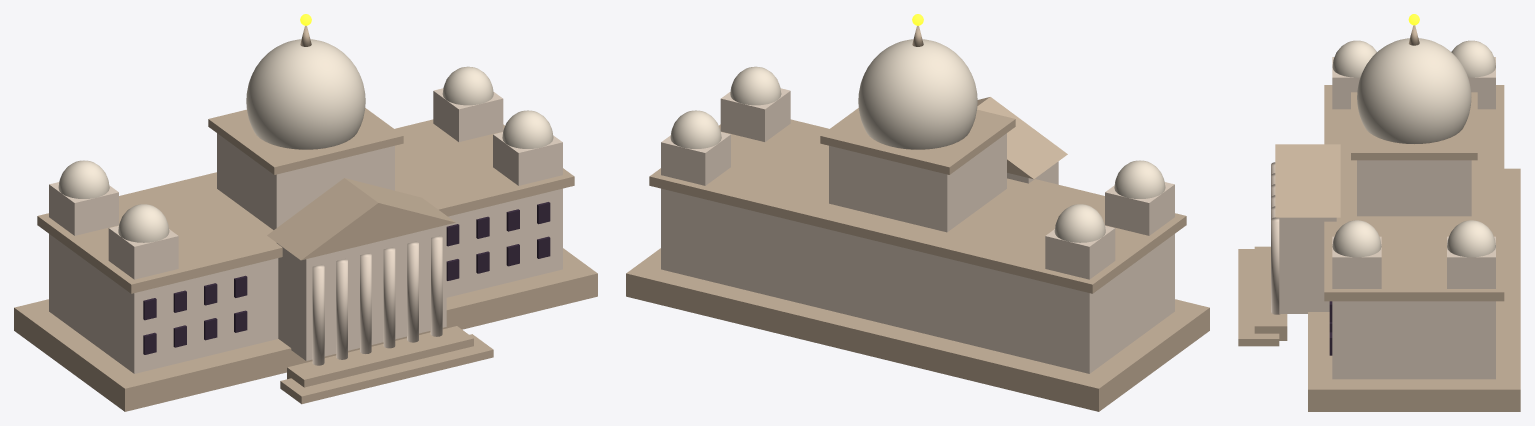
The model's file is vidhana.glb.
The picture shows the model from 3 angles, left to right: view 1: azimuth 30°, elevation 25°; view 2: azimuth 150°, elevation 25°; view 3: azimuth 270°, elevation 25°; orthographic projection. The views are drawn at different scales.
Visible parts, largest first — view 1: Vidhana; view 2: Vidhana; view 3: Vidhana.
Part boxes in pixels (x1,y1,x2,y2): Vidhana: (14, 26, 597, 411); Vidhana: (626, 26, 1209, 411); Vidhana: (1238, 25, 1520, 411).
Bounding box in the file's own units: 6.4 × 3.87 × 3.45.
